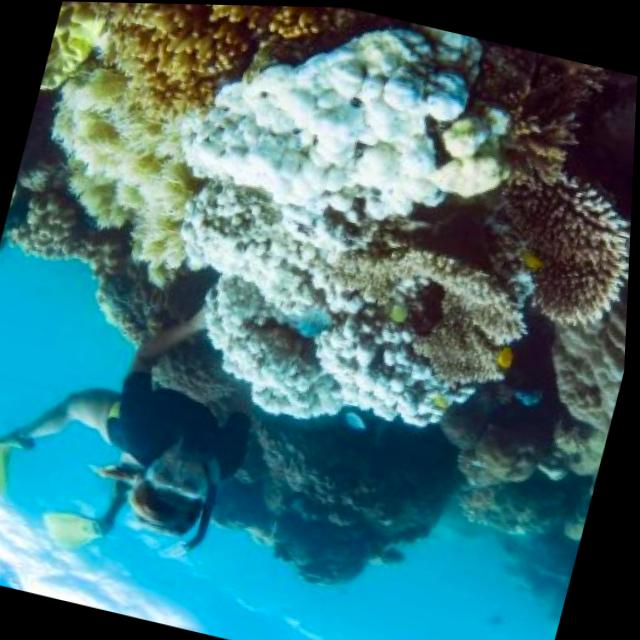Bleached Coral: (150, 3, 538, 324), (160, 273, 461, 446)
Healthy Coral: (493, 157, 635, 335), (60, 1, 237, 112)
